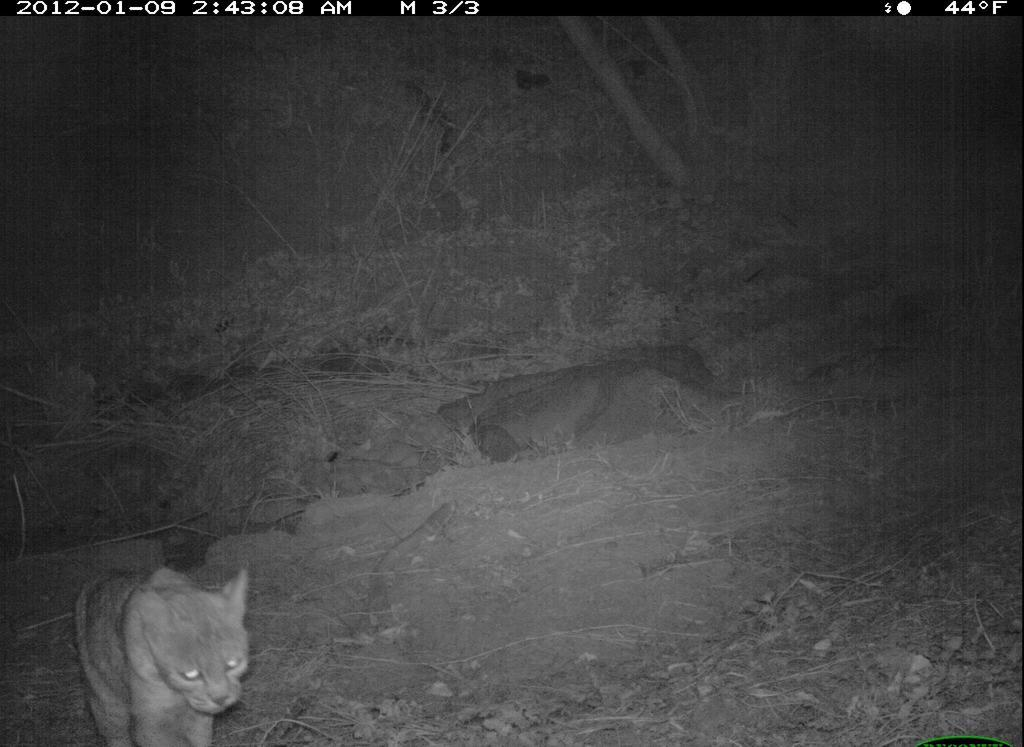bobcat: (66, 551, 263, 747)
